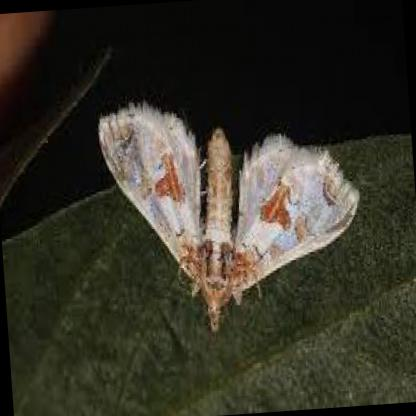leucinodes: (99, 109, 363, 333)
